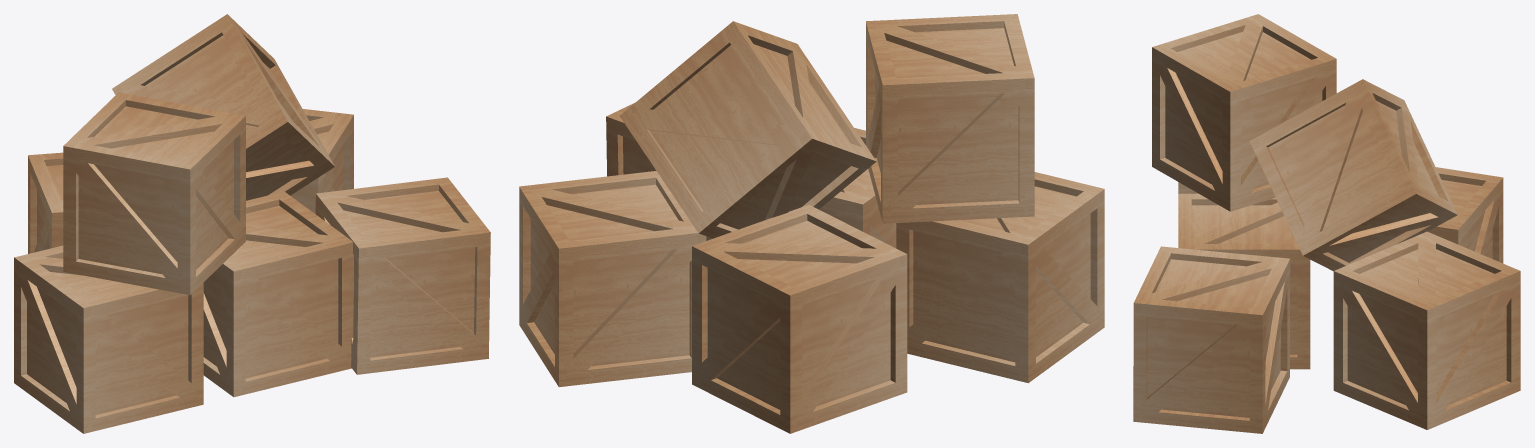
File: crate.glb
The picture shows the model from 3 angles, left to right: view 1: azimuth 30°, elevation 25°; view 2: azimuth 150°, elevation 25°; view 3: azimuth 270°, elevation 25°; orthographic projection. The views are drawn at different scales.
Visible parts, largest first — view 1: Cube.013, Cube.009, Cube.008, Cube.007, Cube.012, Cube.010, Cube.011; view 2: Cube.010, Cube.011, Cube.012, Cube.013, Cube.009, Cube.007, Cube.008; view 3: Cube.011, Cube.008, Cube.012, Cube.013, Cube.007, Cube.010.
Boxes of the visible parts, left/top/right/bottom form: Cube.013: left=63, top=92, right=245, bottom=294; Cube.009: left=14, top=245, right=203, bottom=433; Cube.008: left=315, top=177, right=490, bottom=374; Cube.007: left=203, top=191, right=353, bottom=397; Cube.012: left=112, top=14, right=334, bottom=200; Cube.010: left=28, top=152, right=63, bottom=253; Cube.011: left=290, top=109, right=353, bottom=213; Cube.010: left=692, top=205, right=907, bottom=433; Cube.011: left=519, top=171, right=706, bottom=387; Cube.012: left=620, top=21, right=876, bottom=238; Cube.013: left=866, top=14, right=1034, bottom=223; Cube.009: left=896, top=172, right=1104, bottom=383; Cube.007: left=819, top=128, right=896, bottom=248; Cube.008: left=606, top=102, right=712, bottom=240; Cube.011: left=1333, top=231, right=1520, bottom=429; Cube.008: left=1133, top=246, right=1290, bottom=433; Cube.012: left=1249, top=79, right=1457, bottom=271; Cube.013: left=1152, top=14, right=1336, bottom=211; Cube.007: left=1178, top=193, right=1310, bottom=369; Cube.010: left=1428, top=167, right=1503, bottom=263.
Bounding box in the file's own units: 680 × 464 × 586.
1 material, 1 textured.
